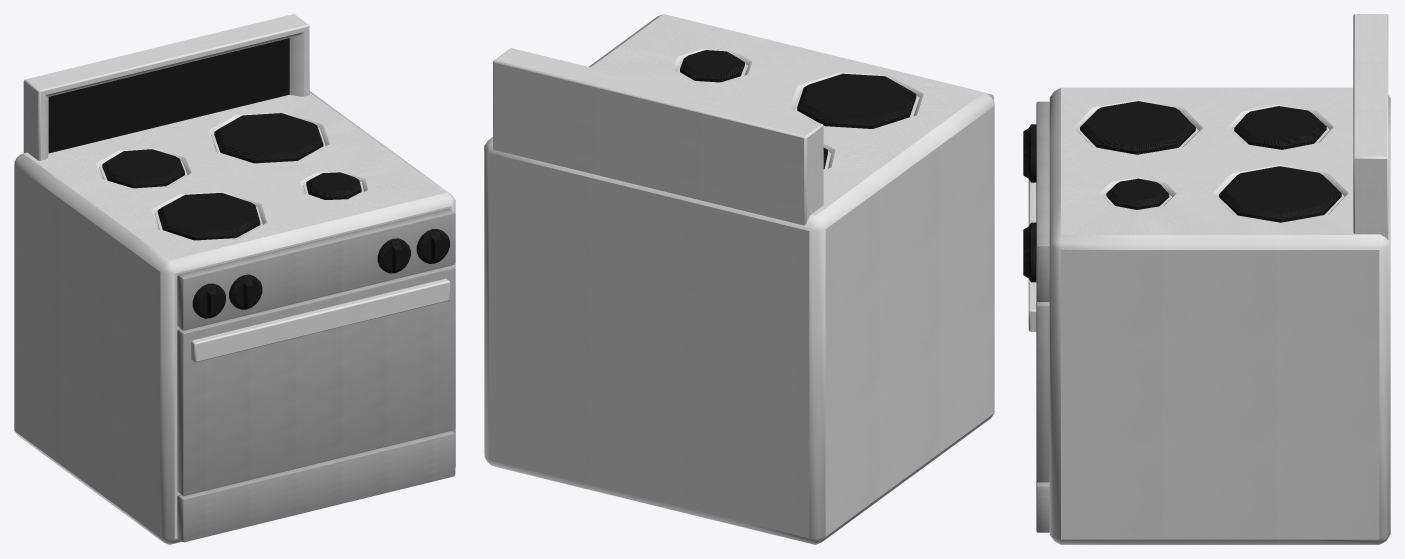
Rendered from Stove.FBX.
The picture shows the model from 3 angles, left to right: view 1: azimuth 30°, elevation 25°; view 2: azimuth 150°, elevation 25°; view 3: azimuth 270°, elevation 25°; orthographic projection. The views are drawn at different scales.
Parts seen in each view (by area): view 1: Stove; view 2: Stove; view 3: Stove.
Part boxes in pixels (bbox=[...]): Stove: bbox=[14, 14, 455, 544]; Stove: bbox=[484, 14, 994, 544]; Stove: bbox=[1023, 14, 1390, 544].
Size of the model in its own units: 111 by 128 by 110.
Materials: 3 (3 with a texture image).
